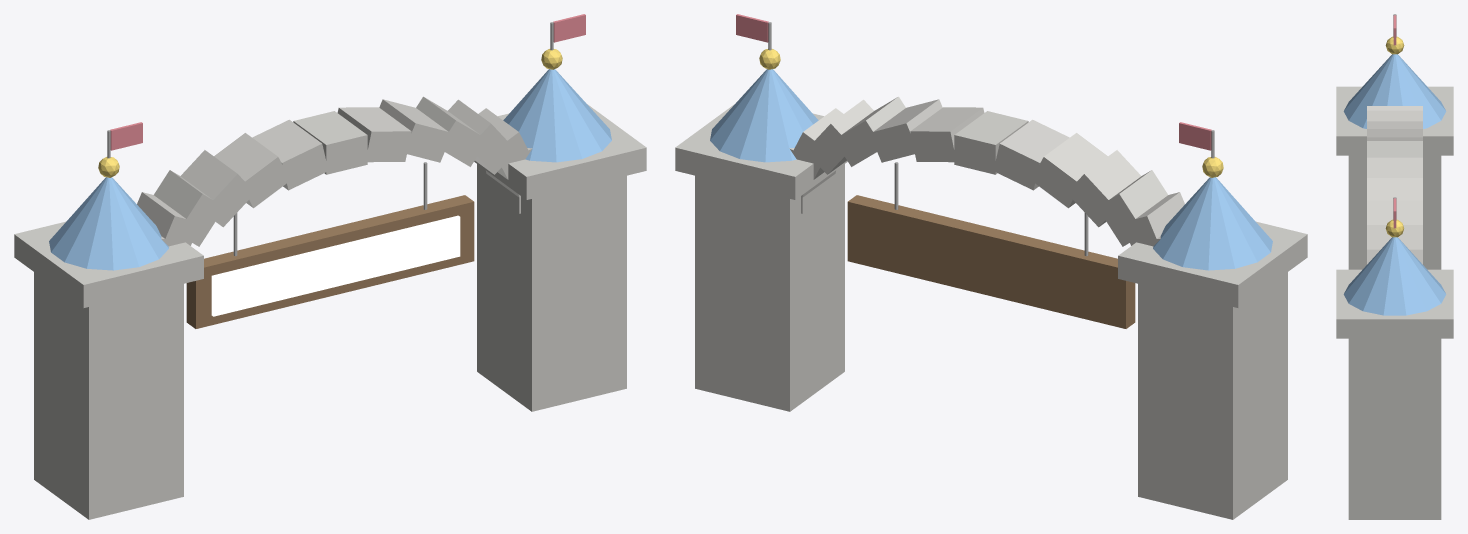
Rendered from gate.fbx.
3 renders of one model, left to right at view 1: azimuth 30°, elevation 25°; view 2: azimuth 150°, elevation 25°; view 3: azimuth 270°, elevation 25°, orthographic. The views are drawn at different scales.
Visible parts, largest first — view 1: Tower_L, Tower_R, Sign_Panel, Sign_Board, Tower_L_Roof, Tower_L_Cap, Tower_R_Roof, Tower_R_Cap, Arch5, Arch6, Arch7, Arch4 (+9 smaller); view 2: Tower_L, Tower_R, Sign_Board, Tower_L_Roof, Tower_L_Cap, Tower_R_Roof, Tower_R_Cap, Arch6, Arch5, Arch7, Arch4, Arch8 (+8 smaller); view 3: Tower_R, Tower_R_Roof, Tower_R_Cap, Tower_L, Tower_L_Roof, Tower_L_Cap, Arch10, Arch9, Arch8, Arch11, Arch7, Arch4 (+6 smaller).
Boxes of the visible parts, <box> form: Tower_L: <box>34,272,183,519</box>; Tower_R: <box>477,164,626,411</box>; Sign_Panel: <box>211,215,460,316</box>; Sign_Board: <box>186,195,474,328</box>; Tower_L_Roof: <box>49,177,168,270</box>; Tower_L_Cap: <box>14,221,203,307</box>; Tower_R_Roof: <box>503,69,611,162</box>; Tower_R_Cap: <box>474,103,646,199</box>; Arch5: <box>214,133,290,208</box>; Arch6: <box>252,119,328,190</box>; Arch7: <box>293,111,367,174</box>; Arch4: <box>180,150,254,227</box>; Tower_L: <box>1138,272,1287,519</box>; Tower_R: <box>695,164,844,411</box>; Sign_Board: <box>847,195,1135,328</box>; Tower_L_Roof: <box>1153,177,1272,270</box>; Tower_L_Cap: <box>1118,221,1307,307</box>; Tower_R_Roof: <box>710,69,818,162</box>; Tower_R_Cap: <box>675,103,847,199</box>; Arch6: <box>993,119,1069,190</box>; Arch5: <box>1031,133,1107,208</box>; Arch7: <box>954,111,1028,174</box>; Arch4: <box>1066,150,1141,227</box>; Arch8: <box>910,107,984,162</box>; Tower_R: <box>1348,338,1441,519</box>; Tower_R_Roof: <box>1343,237,1446,315</box>; Tower_R_Cap: <box>1336,269,1453,338</box>; Tower_L: <box>1348,155,1441,269</box>; Tower_L_Roof: <box>1343,54,1446,128</box>; Tower_L_Cap: <box>1336,86,1453,155</box>; Arch10: <box>1367,200,1422,224</box>; Arch9: <box>1367,178,1422,200</box>; Arch8: <box>1367,157,1422,177</box>; Arch11: <box>1367,225,1422,249</box>; Arch7: <box>1367,141,1422,157</box>; Arch4: <box>1367,110,1422,121</box>.
Size of the model in its own units: 17.8 by 10.8 by 3.8.
